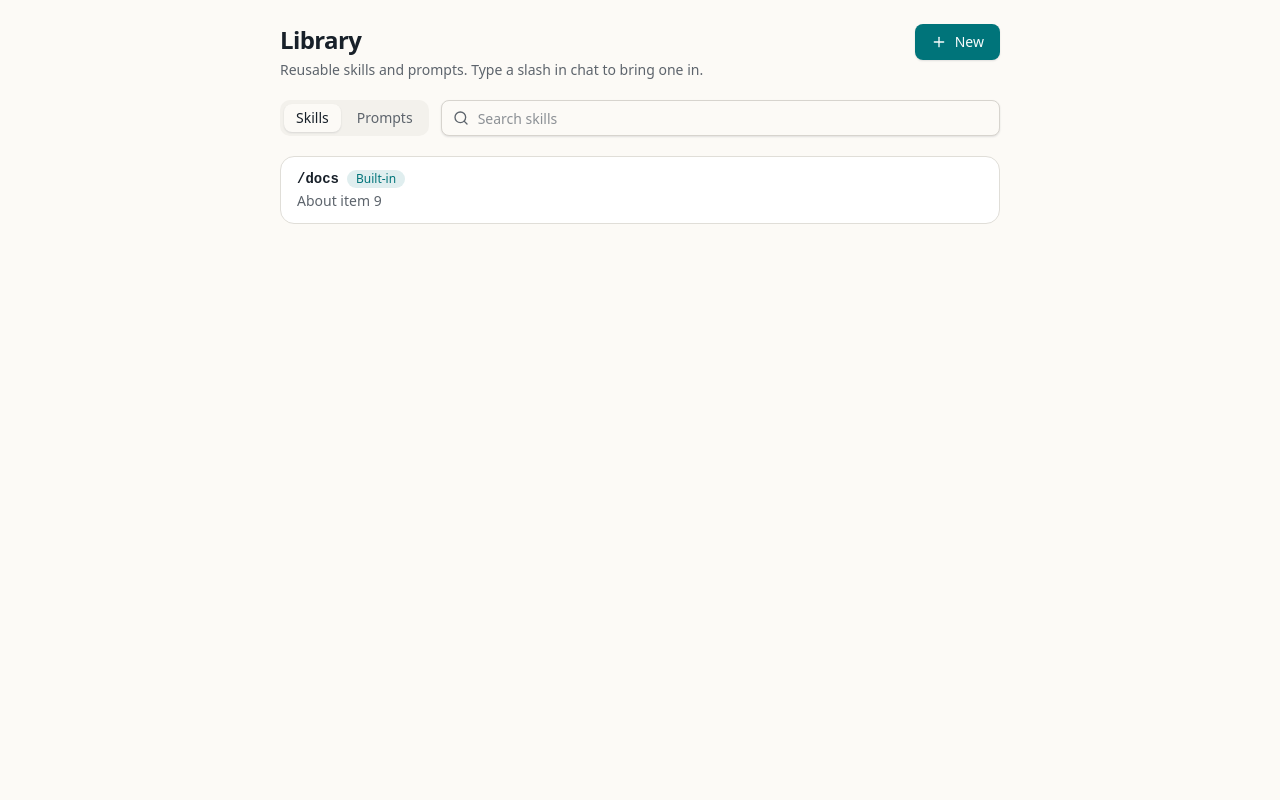
skills tab › opens a built-in skill read-only after fetching the full object (scenario 31)
Click the text "/docs" at (318, 179), box [297,169,339,189]
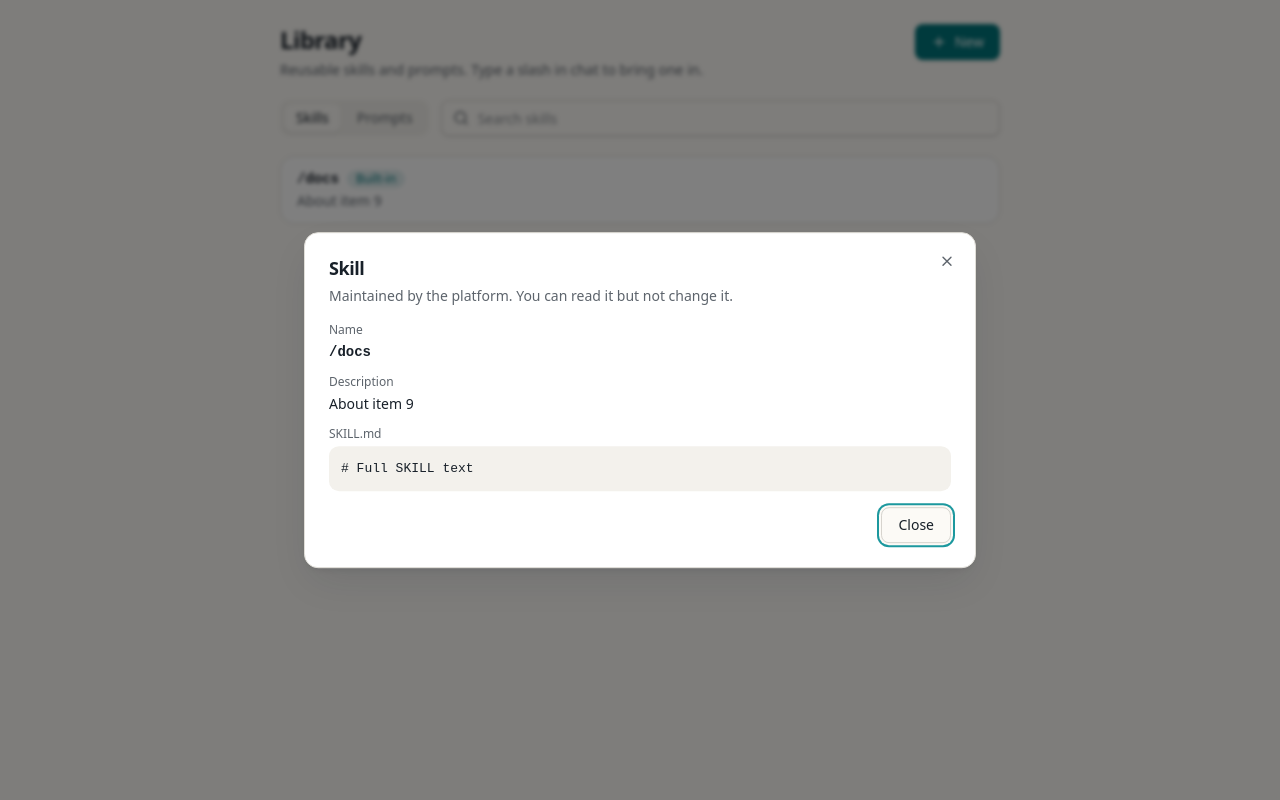
Expected: the text "# Full SKILL text" is shown, [329,446,951,491]
